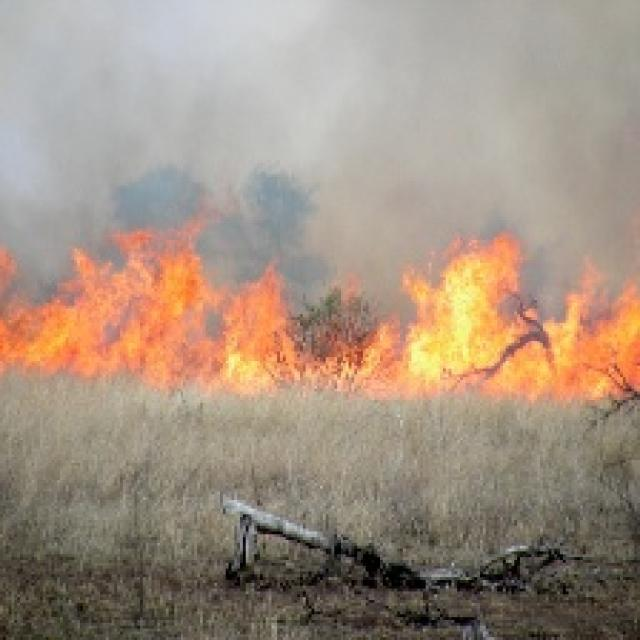Fire: (0, 231, 292, 391), (399, 238, 640, 396)
